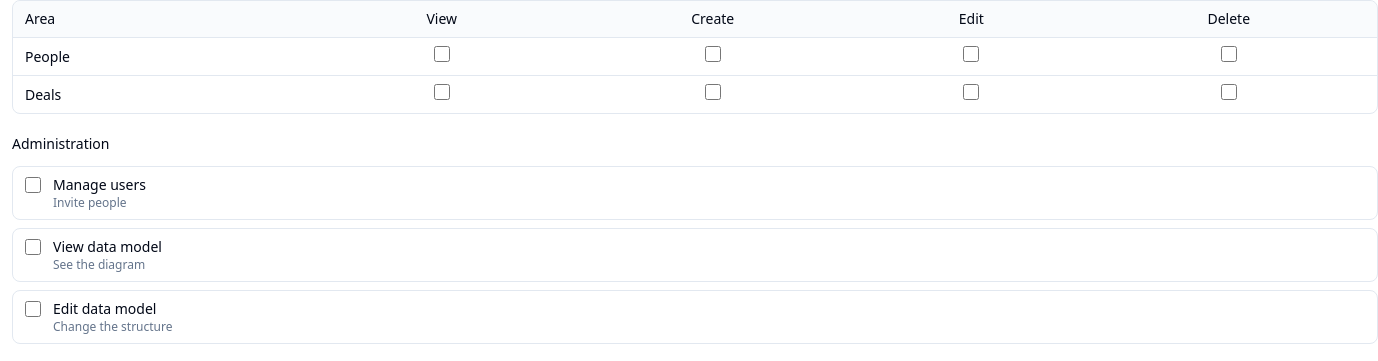
Test case: PermissionMatrix › turning on edit data model also turns on view data model
This screenshot has width=1378, height=361.
What coordinates should you click on to do the following:
click the checkbox labelled "Edit data model Change the structure"
I would click on:
 (33, 309)
Its box is 25,301 -> 41,317.
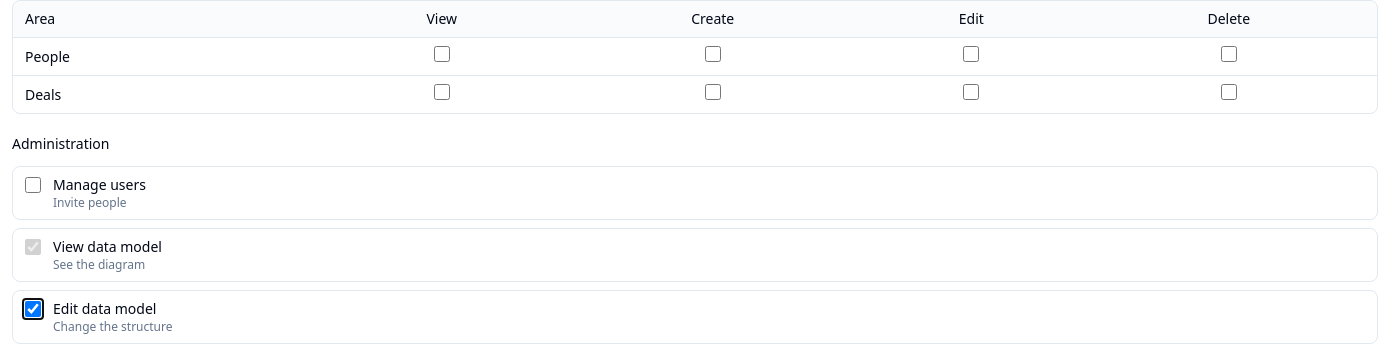
Expected: the checkbox labelled "View data model See the diagram" is checked, 25,239 -> 41,255
Expected: the checkbox labelled "View data model See the diagram" is disabled, 25,239 -> 41,255
